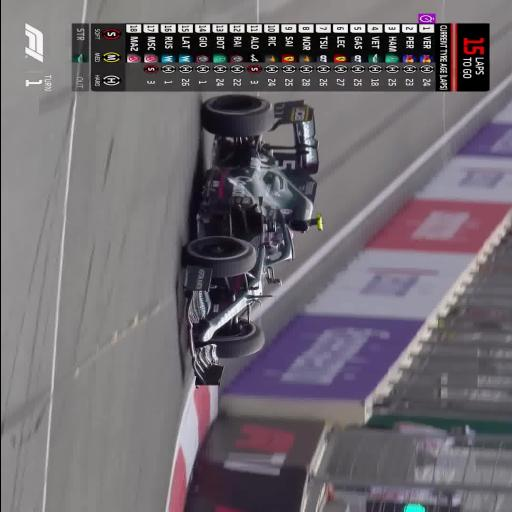f1_car: (183, 95, 322, 386)
